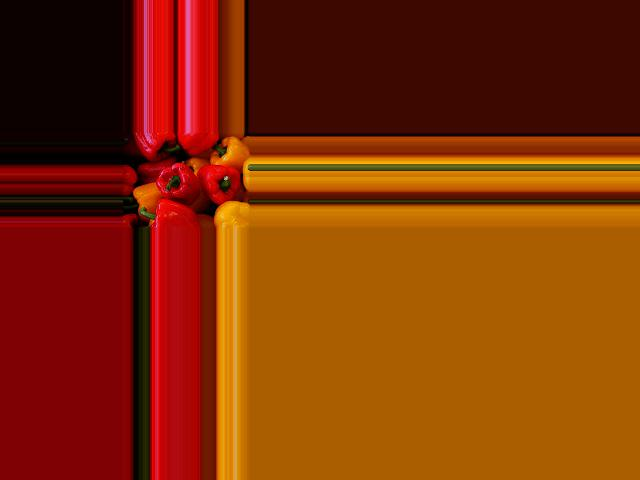bell_pepper: (213, 139, 249, 170)
